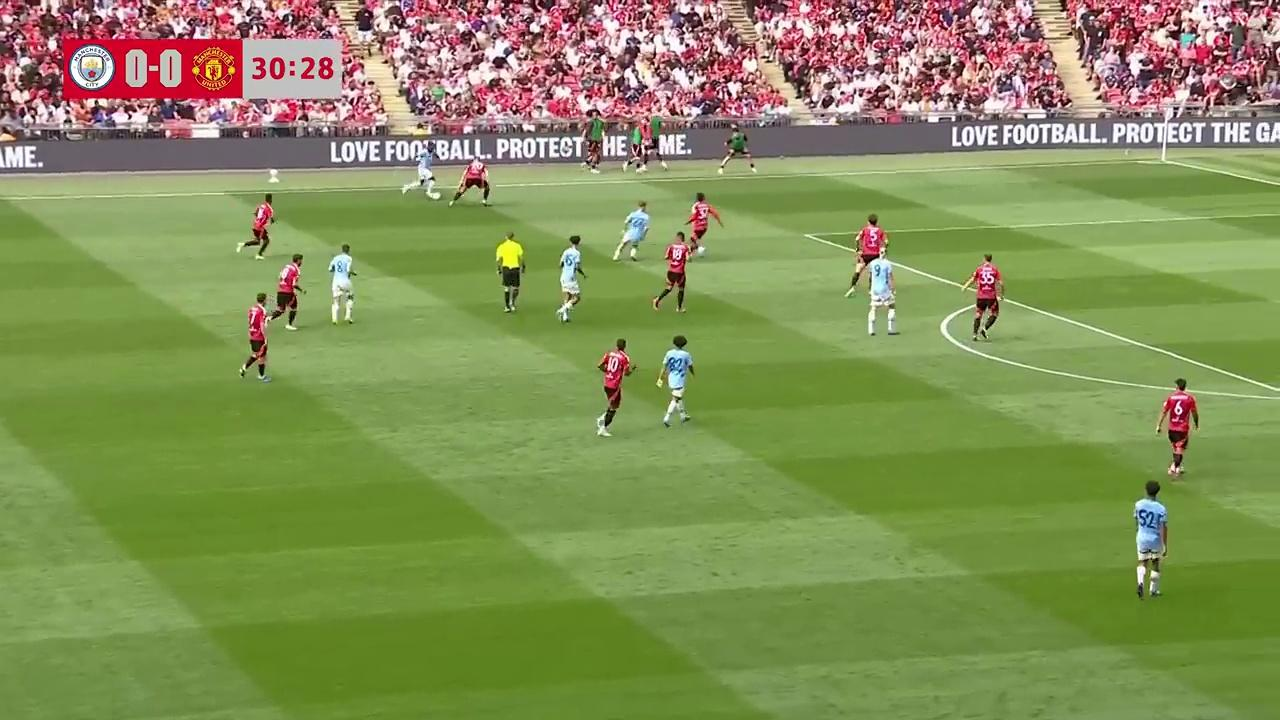ball: (432, 189, 442, 200)
player: (1156, 377, 1198, 479), (1132, 479, 1167, 600), (595, 338, 636, 436), (962, 254, 1003, 339), (845, 214, 886, 298), (660, 335, 695, 427), (652, 231, 689, 313), (866, 247, 899, 336), (238, 293, 270, 382), (270, 255, 304, 330), (684, 192, 722, 257), (556, 241, 586, 322), (236, 195, 274, 258), (328, 243, 357, 324), (402, 142, 442, 199), (613, 201, 650, 262), (448, 157, 492, 207)
referee: (495, 232, 525, 312)
